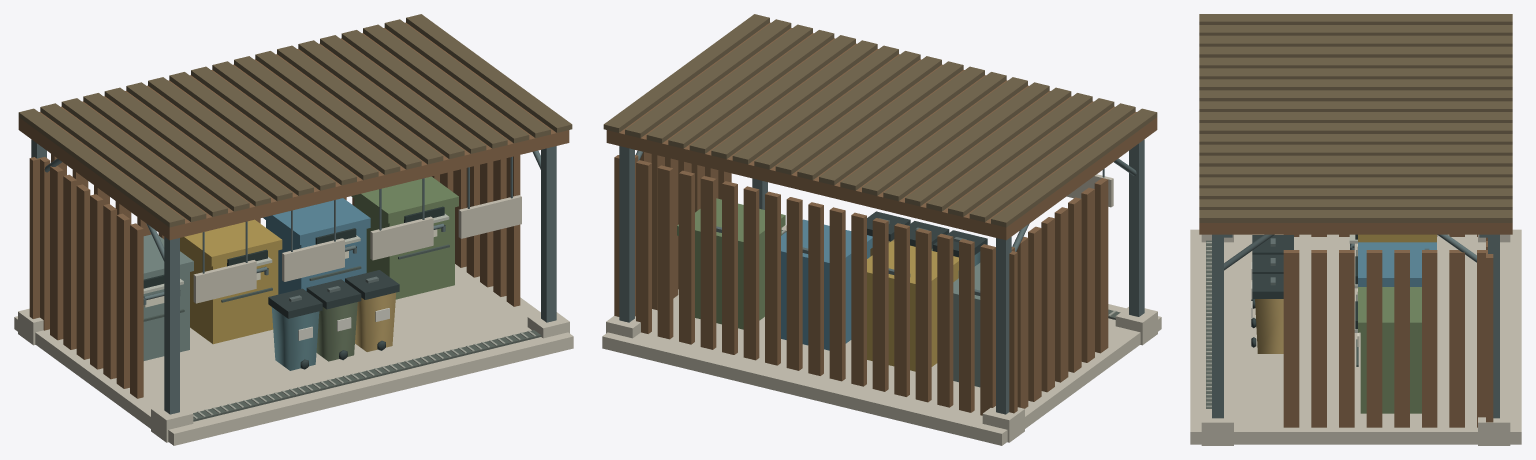
Rendered from recycling.glb.
The picture shows the model from 3 angles, left to right: view 1: azimuth 30°, elevation 25°; view 2: azimuth 150°, elevation 25°; view 3: azimuth 270°, elevation 25°; orthographic projection. The views are drawn at different scales.
Visible parts, largest first — view 1: korean-facade-parts-77694f, korean-facade-parts-8b6b4c, korean-facade-parts-cec9b9, korean-facade-parts-627475, korean-facade-parts-b89d54, korean-facade-parts-768c64, korean-facade-parts-5d8c9f, korean-facade-parts-7a8e88, korean-facade-parts-606a62, blue-1, green-7, yellow-13 (+6 smaller); view 2: korean-facade-parts-8b6b4c, korean-facade-parts-77694f, korean-facade-parts-cec9b9, korean-facade-parts-627475, korean-facade-parts-b89d54, korean-facade-parts-5d8c9f, korean-facade-parts-768c64, korean-facade-parts-7a8e88; view 3: korean-facade-parts-77694f, korean-facade-parts-cec9b9, korean-facade-parts-8b6b4c, korean-facade-parts-627475, korean-facade-parts-768c64, korean-facade-parts-5d8c9f, yellow-13, dark-14, korean-facade-parts-606a62, korean-facade-parts-b89d54, dark-2, korean-facade-parts-a9aea2 (+1 smaller).
Boxes of the visible parts, x1,y1,x2,y2 form: korean-facade-parts-77694f: [18, 14, 572, 227]; korean-facade-parts-8b6b4c: [18, 22, 569, 398]; korean-facade-parts-cec9b9: [14, 195, 573, 445]; korean-facade-parts-627475: [31, 139, 556, 414]; korean-facade-parts-b89d54: [180, 219, 282, 344]; korean-facade-parts-768c64: [351, 176, 458, 299]; korean-facade-parts-5d8c9f: [263, 198, 370, 294]; korean-facade-parts-7a8e88: [143, 234, 193, 360]; korean-facade-parts-606a62: [193, 330, 541, 421]; blue-1: [271, 307, 319, 370]; green-7: [316, 302, 357, 361]; yellow-13: [355, 292, 395, 351]; korean-facade-parts-8b6b4c: [606, 22, 1157, 415]; korean-facade-parts-77694f: [603, 14, 1157, 227]; korean-facade-parts-cec9b9: [602, 174, 1161, 445]; korean-facade-parts-627475: [619, 139, 1144, 414]; korean-facade-parts-b89d54: [867, 241, 958, 371]; korean-facade-parts-5d8c9f: [781, 219, 872, 350]; korean-facade-parts-768c64: [677, 198, 785, 329]; korean-facade-parts-7a8e88: [953, 263, 980, 387]; korean-facade-parts-77694f: [1199, 14, 1512, 222]; korean-facade-parts-cec9b9: [1190, 229, 1521, 445]; korean-facade-parts-8b6b4c: [1199, 223, 1512, 427]; korean-facade-parts-627475: [1212, 234, 1499, 418]; korean-facade-parts-768c64: [1358, 287, 1421, 413]; korean-facade-parts-5d8c9f: [1358, 242, 1436, 286]; yellow-13: [1255, 299, 1283, 353]; dark-14: [1252, 274, 1283, 298]; korean-facade-parts-606a62: [1206, 240, 1211, 408]; korean-facade-parts-b89d54: [1358, 234, 1436, 242]; dark-2: [1252, 235, 1293, 254]; korean-facade-parts-a9aea2: [1206, 242, 1211, 407].
Size of the model in its own units: 5.27 by 2.74 by 3.6.
